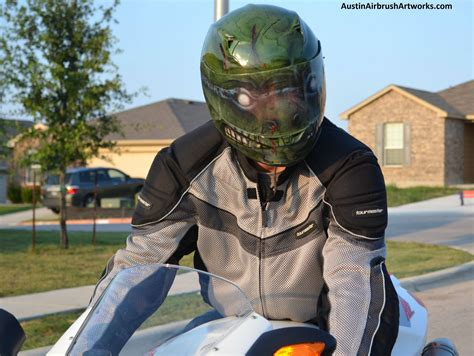com_capacete: (199, 3, 328, 168)
